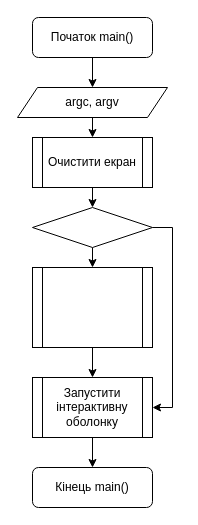
The diagram is 198 pixels wide and 525 high, and some of its shapes have lost their labels. Each missing label, with the centre of its shape:
argc == 2: pixel 92 227
Виконати скріпт у файлі, що був переданий у аргументах ком. рядка: pixel 92 307
